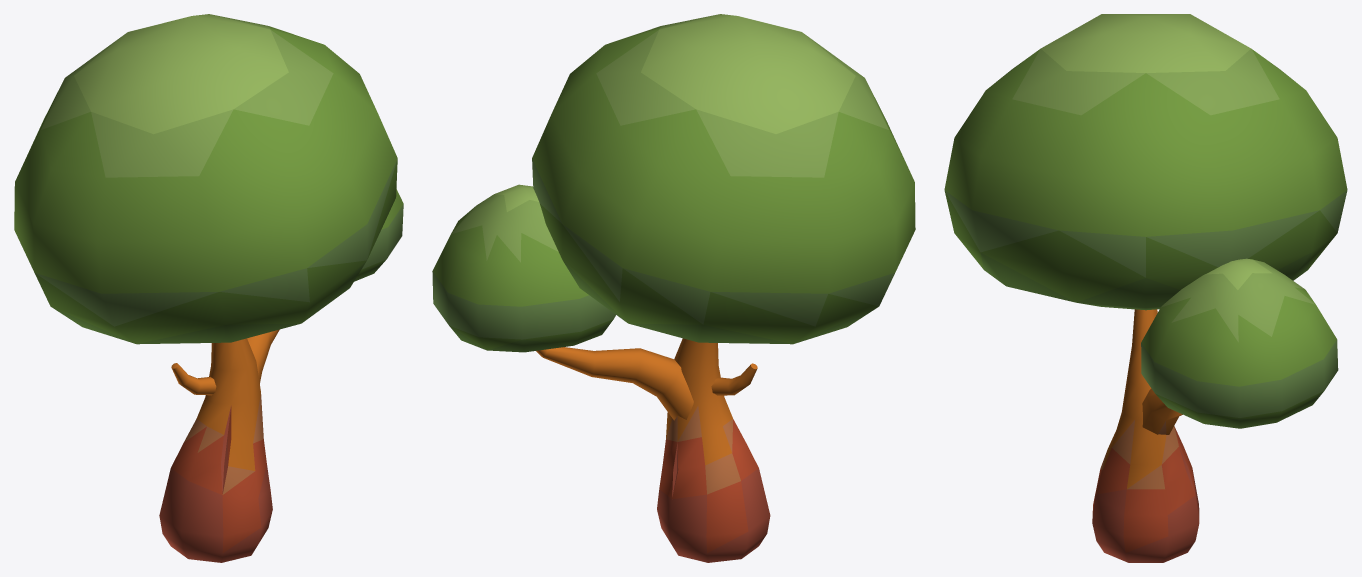
The model's file is itch_kaykit_forest_tree_1_b_color1.glb.
3 views of the same model, side by side, from view 1: azimuth 30°, elevation 25°; view 2: azimuth 150°, elevation 25°; view 3: azimuth 270°, elevation 25° (orthographic).
Parts seen in each view (by area): view 1: Tree_1_B_Color1; view 2: Tree_1_B_Color1; view 3: Tree_1_B_Color1.
Part boxes in pixels (x1=…): Tree_1_B_Color1: x1=14, y1=14, x2=403, y2=562; Tree_1_B_Color1: x1=432, y1=14, x2=915, y2=562; Tree_1_B_Color1: x1=944, y1=14, x2=1347, y2=562.
Size of the model in its own units: 1.22 by 1.5 by 1.05.
